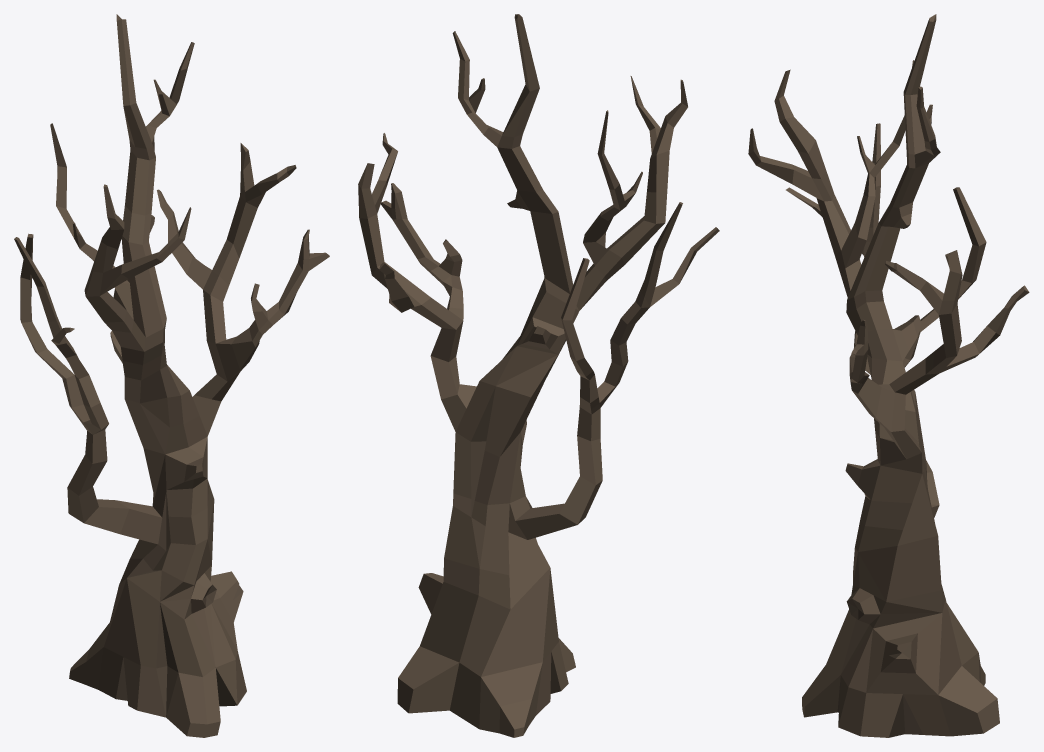
The model's file is dead_tree.glb.
The picture shows the model from 3 angles, left to right: view 1: azimuth 30°, elevation 25°; view 2: azimuth 150°, elevation 25°; view 3: azimuth 270°, elevation 25°; orthographic projection. The views are drawn at different scales.
Visible parts, largest first — view 1: SM_Env_Tree_Dead_02; view 2: SM_Env_Tree_Dead_02; view 3: SM_Env_Tree_Dead_02.
Part boxes in pixels (bbox=[...]): SM_Env_Tree_Dead_02: bbox=[14, 14, 329, 737]; SM_Env_Tree_Dead_02: bbox=[358, 14, 719, 737]; SM_Env_Tree_Dead_02: bbox=[748, 14, 1029, 737].
Size of the model in its own units: 1.93 by 4.23 by 1.54.
Materials: 1 (1 with a texture image).
